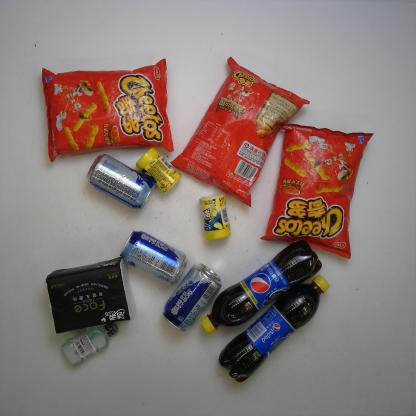Alcohol: (160, 260, 223, 332), (83, 154, 157, 210), (120, 230, 188, 286)
Drink: (217, 273, 332, 384), (202, 239, 323, 335)
Gum: (135, 147, 183, 194), (198, 192, 232, 242)
Personal Hygiene: (61, 322, 118, 367)
Puffed Food: (168, 54, 312, 209), (258, 121, 375, 261), (40, 57, 175, 163)
Tissue: (44, 258, 136, 335)
